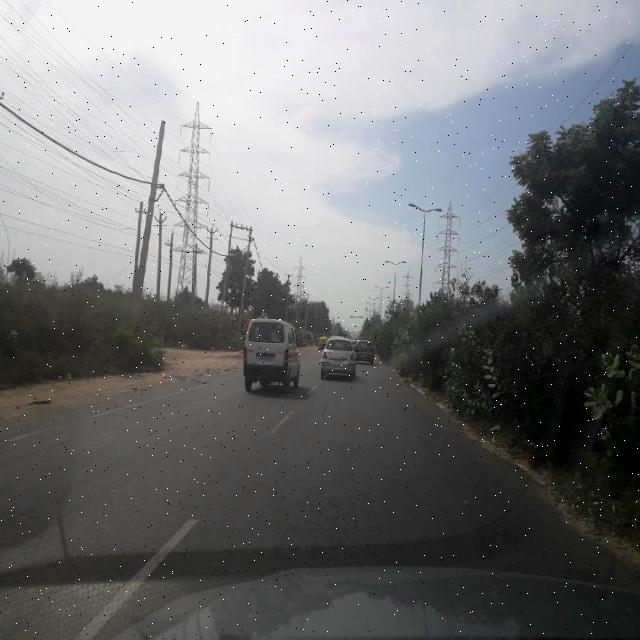D20: (223, 430, 580, 572)
